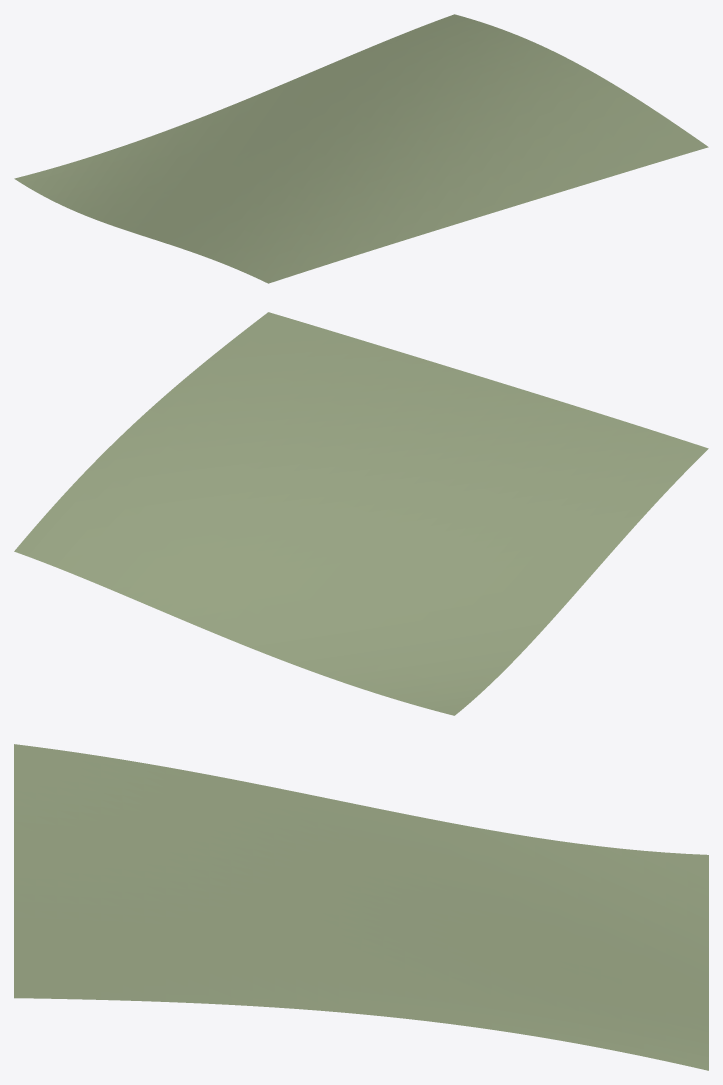
Rendered from expanse-10-22.glb.
The picture shows the model from 3 angles, top to bottom: view 1: azimuth 30°, elevation 25°; view 2: azimuth 150°, elevation 25°; view 3: azimuth 270°, elevation 25°; orthographic projection. The views are drawn at different scales.
Parts seen in each view (by area): view 1: expanse-10-22; view 2: expanse-10-22; view 3: expanse-10-22.
Boxes of the visible parts, x1,y1,x2,y2 form: expanse-10-22: (14,14,708,283); expanse-10-22: (14,312,708,715); expanse-10-22: (14,744,708,1070).
Bounding box in the file's own units: 256 × 61.16 × 256.
